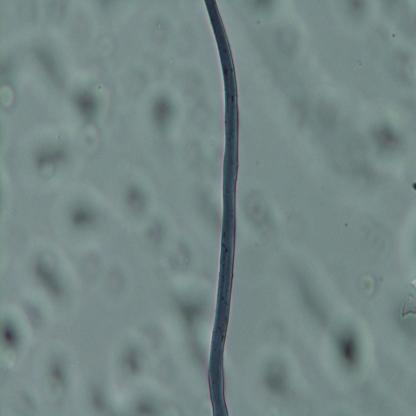Background material: (271, 86, 374, 176), (247, 8, 310, 84), (23, 246, 81, 318), (328, 309, 375, 388), (126, 174, 170, 253), (16, 24, 66, 92), (254, 344, 306, 406), (174, 280, 210, 367), (51, 69, 104, 127), (349, 202, 394, 260), (113, 328, 153, 392), (75, 250, 126, 300), (245, 190, 282, 253), (143, 83, 183, 141), (26, 134, 72, 184), (0, 304, 34, 370), (60, 188, 111, 232), (38, 346, 74, 399), (74, 118, 104, 161), (372, 121, 408, 155), (167, 233, 193, 278), (384, 47, 416, 79), (86, 36, 112, 64), (342, 0, 370, 26), (399, 280, 416, 318), (0, 78, 18, 113), (356, 272, 378, 299), (409, 176, 416, 193)
Microfibre: (203, 0, 239, 416)
